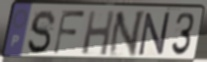3: (170, 12, 196, 58)
F: (51, 9, 87, 57)
H: (80, 9, 117, 58)
N: (106, 9, 147, 58), (137, 11, 172, 58)
S: (26, 9, 58, 56)
